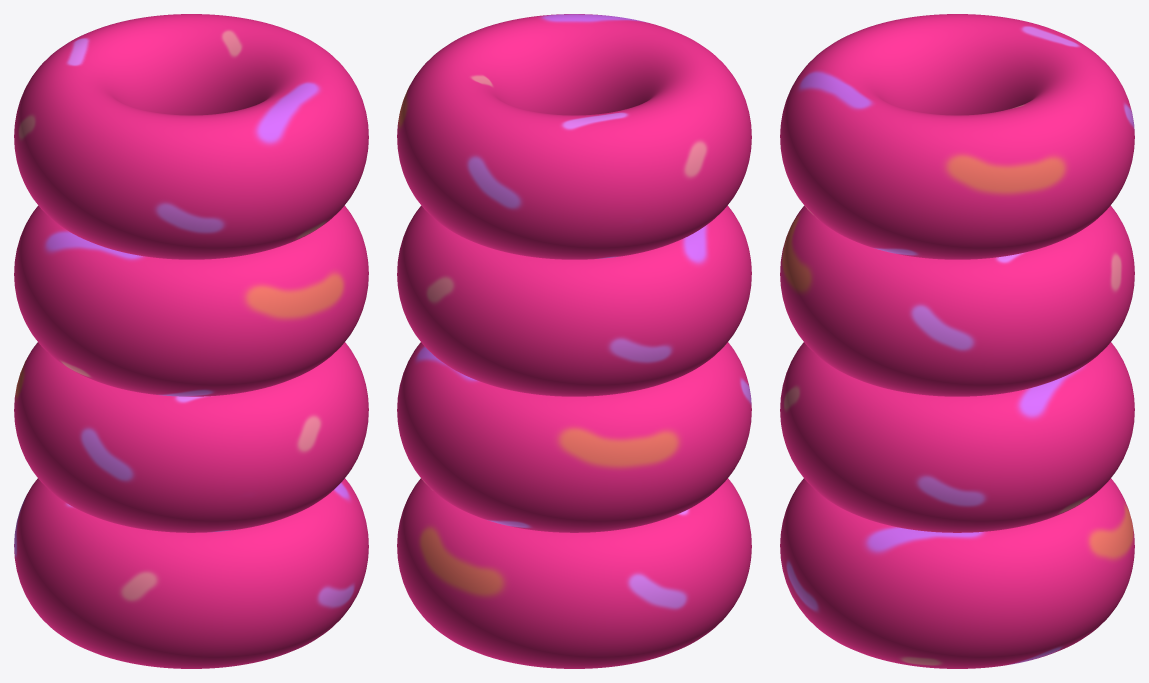
Rendered from torus_pink.fbx.
3 renders of one model, left to right at view 1: azimuth 30°, elevation 25°; view 2: azimuth 150°, elevation 25°; view 3: azimuth 270°, elevation 25°, orthographic.
Parts seen in each view (by area): view 1: Torus.003, Torus.002, Torus.001, Torus; view 2: Torus.003, Torus.002, Torus.001, Torus; view 3: Torus.003, Torus.002, Torus.001, Torus.
Boxes of the visible parts, bbox=[...] form: Torus.003: bbox=[14, 14, 368, 259]; Torus.002: bbox=[14, 205, 368, 396]; Torus.001: bbox=[14, 342, 368, 532]; Torus: bbox=[14, 478, 368, 668]; Torus.003: bbox=[397, 14, 751, 259]; Torus.002: bbox=[397, 205, 751, 396]; Torus.001: bbox=[397, 342, 751, 532]; Torus: bbox=[397, 478, 751, 668]; Torus.003: bbox=[780, 14, 1134, 259]; Torus.002: bbox=[780, 205, 1134, 396]; Torus.001: bbox=[780, 342, 1134, 532]; Torus: bbox=[780, 478, 1134, 668].
Size of the model in its own units: 147 by 249 by 147.
